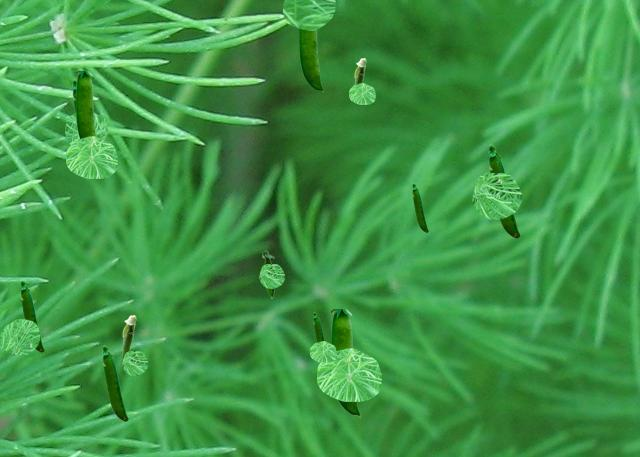pea: (331, 309, 359, 416), (488, 144, 519, 237), (102, 345, 127, 420), (20, 280, 43, 351), (299, 30, 322, 91), (76, 71, 96, 137), (412, 183, 427, 231), (122, 315, 135, 358), (262, 250, 273, 298), (313, 312, 324, 341), (354, 58, 365, 83), (72, 79, 75, 112)
